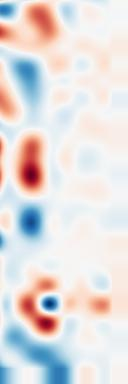filament: (12, 267, 67, 339), (16, 130, 52, 198)
